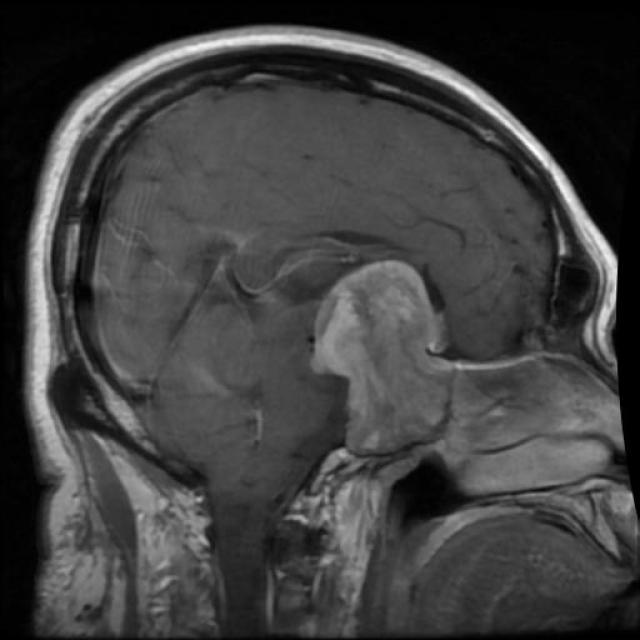pituitary: (304, 254, 454, 462)
